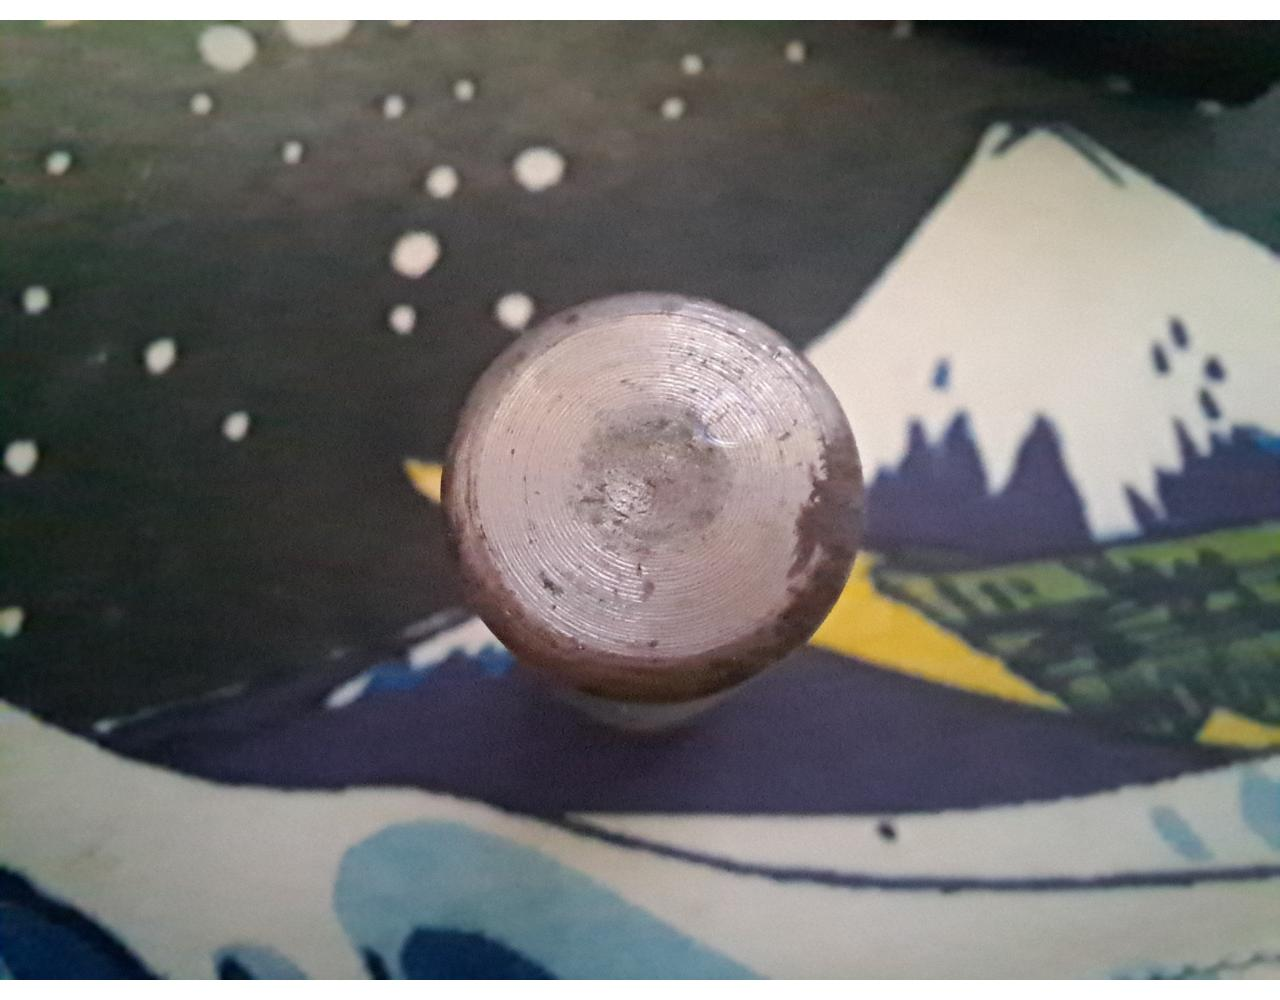defect: (696, 386, 774, 453)
planson: (442, 290, 869, 733)
